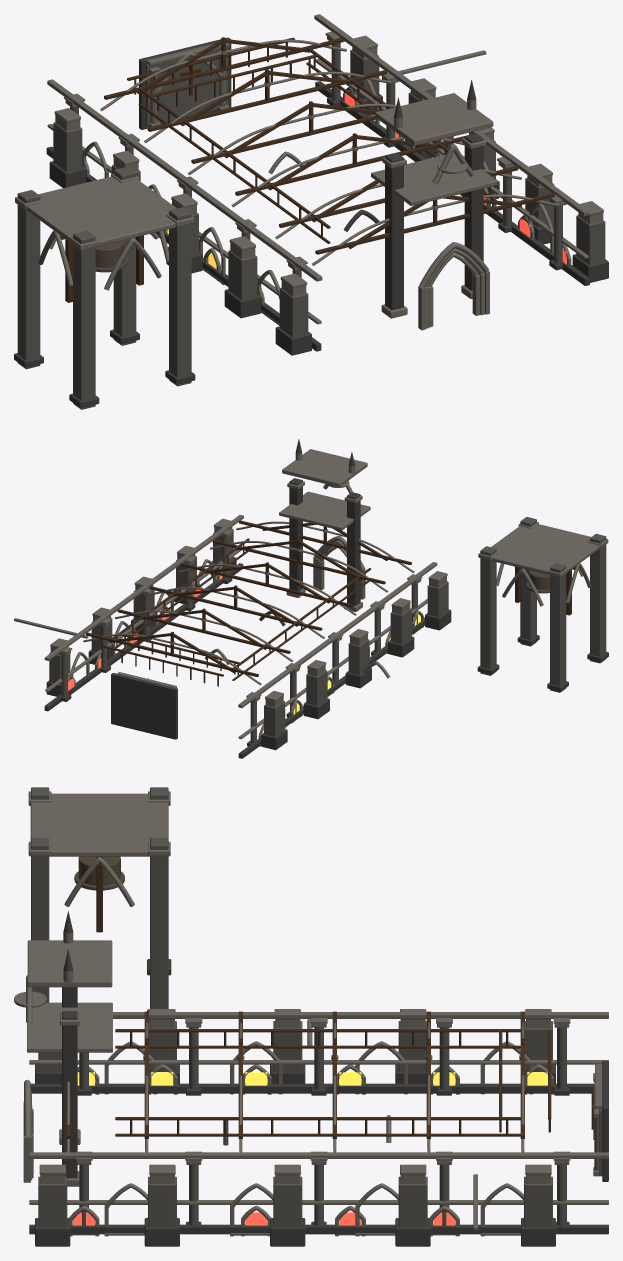
File: church_final_architecture.glb
3 views of the same model, one above another, from view 1: azimuth 30°, elevation 25°; view 2: azimuth 150°, elevation 25°; view 3: azimuth 270°, elevation 25° (orthographic). The views are drawn at different scales.
Visible parts, largest first — view 1: Architecture_trim, Architecture_stone, Architecture_wood, Architecture_stone_dark, Architecture_metal; view 2: Architecture_trim, Architecture_stone, Architecture_stone_dark, Architecture_wood; view 3: Architecture_trim, Architecture_stone, Architecture_stone_dark, Architecture_wood, Architecture_glass_gold, Architecture_metal, Architecture_glass_red.
Boxes of the visible parts, <box> form: Architecture_trim: <box>15,14,603,330</box>; Architecture_stone: <box>17,43,605,409</box>; Architecture_wood: <box>60,37,554,302</box>; Architecture_stone_dark: <box>14,37,608,407</box>; Architecture_metal: <box>95,240,128,272</box>; Architecture_trim: <box>14,449,608,746</box>; Architecture_stone: <box>49,517,606,742</box>; Architecture_stone_dark: <box>44,439,608,758</box>; Architecture_wood: <box>86,520,575,686</box>; Architecture_trim: <box>14,791,608,1236</box>; Architecture_stone: <box>31,787,602,1227</box>; Architecture_stone_dark: <box>29,911,608,1246</box>; Architecture_wood: <box>66,856,593,1138</box>; Architecture_glass_gold: <box>77,1072,547,1085</box>; Architecture_metal: <box>74,856,124,890</box>; Architecture_glass_red: <box>73,1212,455,1225</box>.
Size of the model in its own units: 48.57 by 16.58 by 37.97.
